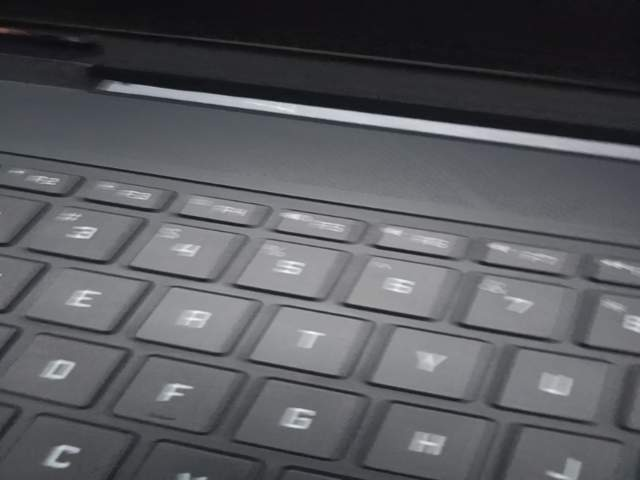pothole: (96, 403, 287, 480)
